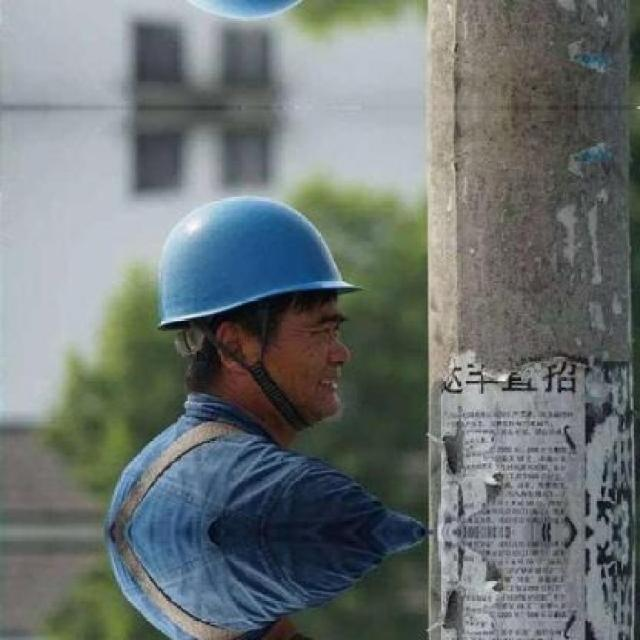helmet: (130, 172, 378, 434)
